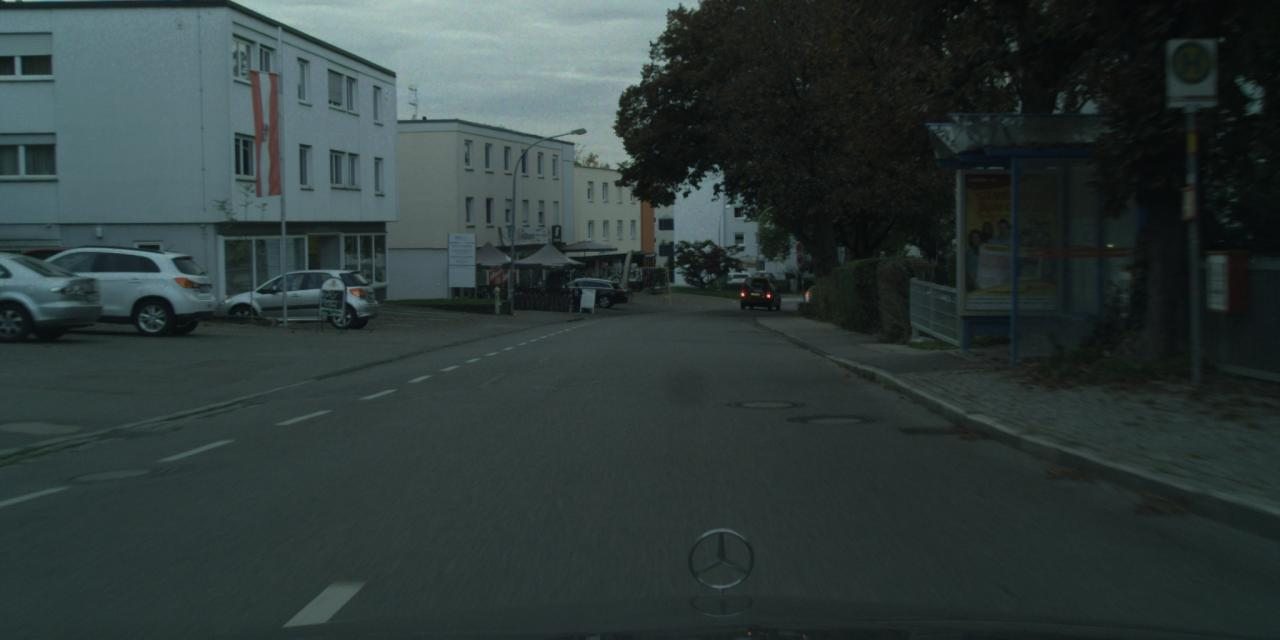ped: (570, 282, 582, 314)
